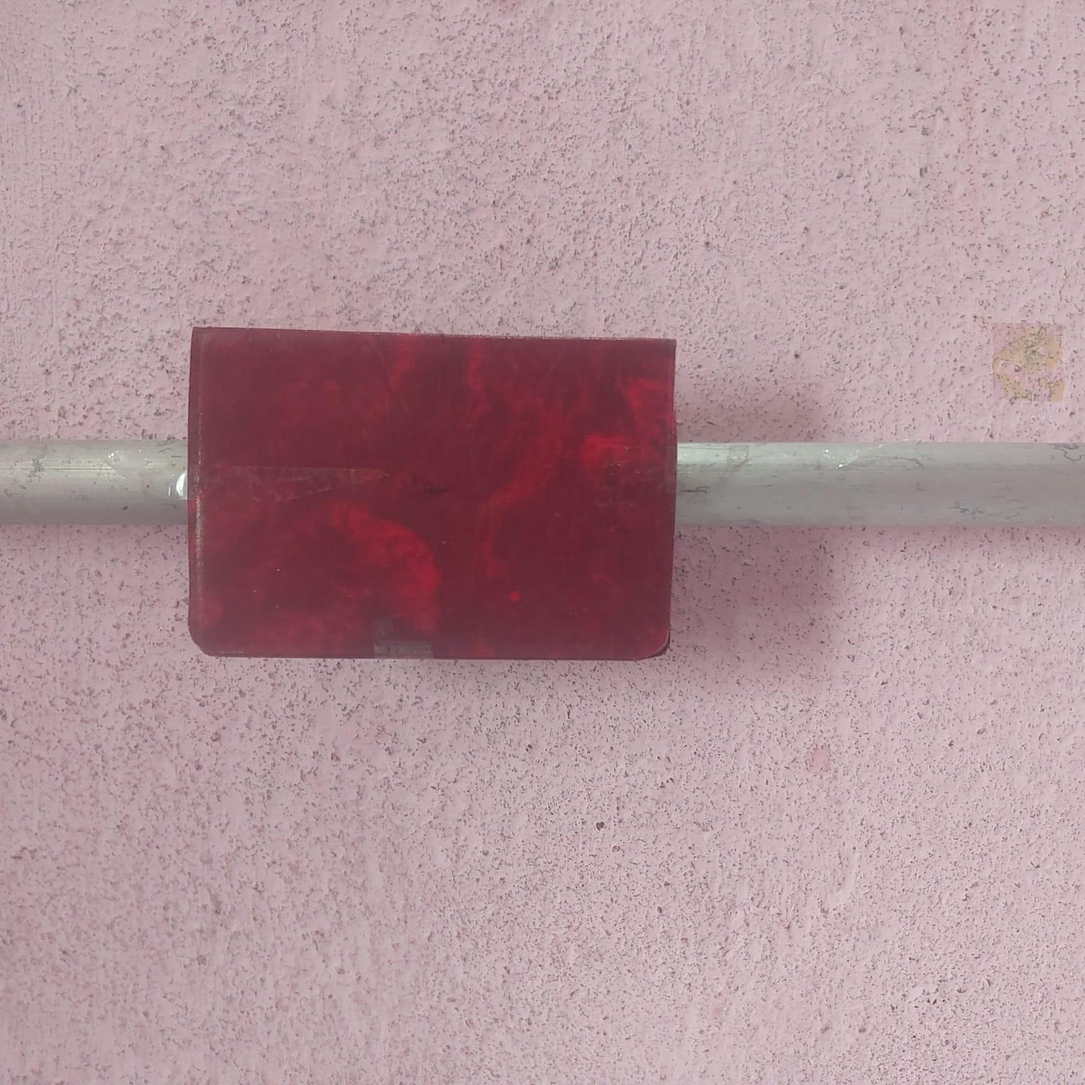wallet: (194, 331, 679, 658)
